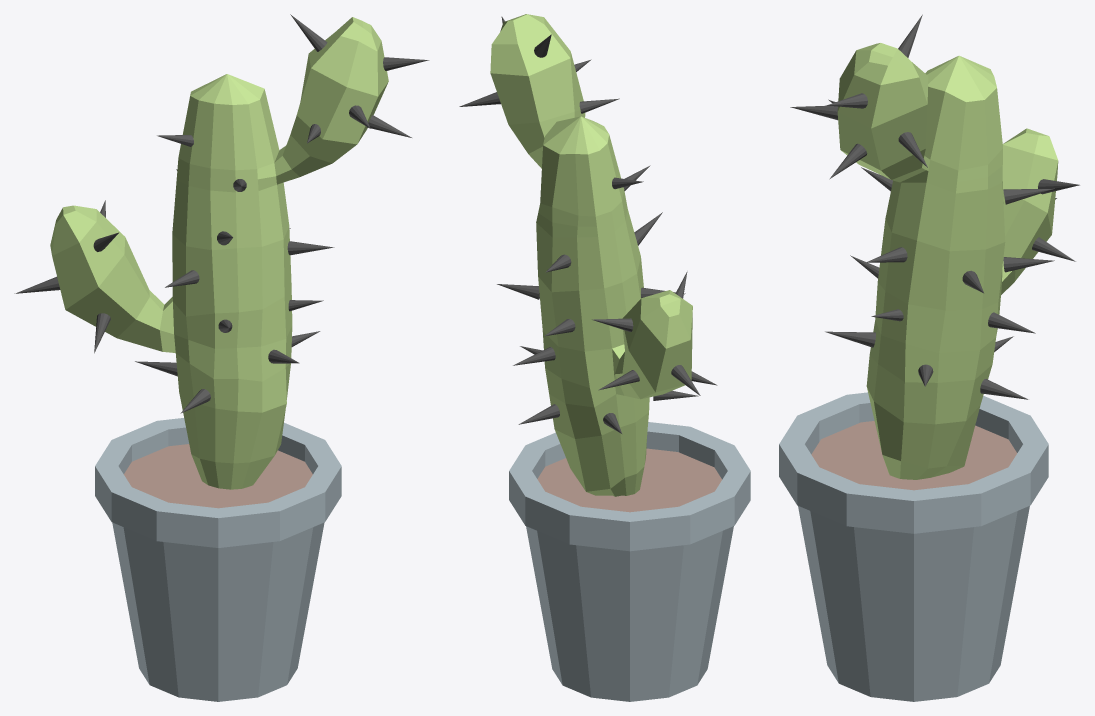
File: low_poly_cactus.glb
3 renders of one model, left to right at view 1: azimuth 30°, elevation 25°; view 2: azimuth 150°, elevation 25°; view 3: azimuth 270°, elevation 25°, orthographic. The views are drawn at different scales.
Parts seen in each view (by area): view 1: mesh_2078677224_material_9___28596_0, mesh_859345866_material_16___28596_0, mesh_1323661467_material_20___28596_0; view 2: mesh_2078677224_material_9___28596_0, mesh_859345866_material_16___28596_0, mesh_1323661467_material_20___28596_0; view 3: mesh_2078677224_material_9___28596_0, mesh_859345866_material_16___28596_0, mesh_1323661467_material_20___28596_0.
Part boxes in pixels (x1=…): mesh_2078677224_material_9___28596_0: x1=50, y1=17, x2=388, y2=489; mesh_859345866_material_16___28596_0: x1=95, y1=418, x2=341, y2=701; mesh_1323661467_material_20___28596_0: x1=124, y1=444, x2=312, y2=508; mesh_2078677224_material_9___28596_0: x1=490, y1=14, x2=692, y2=496; mesh_859345866_material_16___28596_0: x1=509, y1=422, x2=750, y2=701; mesh_1323661467_material_20___28596_0: x1=537, y1=448, x2=721, y2=512; mesh_2078677224_material_9___28596_0: x1=837, y1=43, x2=1058, y2=479; mesh_859345866_material_16___28596_0: x1=779, y1=392, x2=1048, y2=701; mesh_1323661467_material_20___28596_0: x1=811, y1=421, x2=1017, y2=490.
Size of the model in its own units: 30.05 by 58.73 by 23.21.
